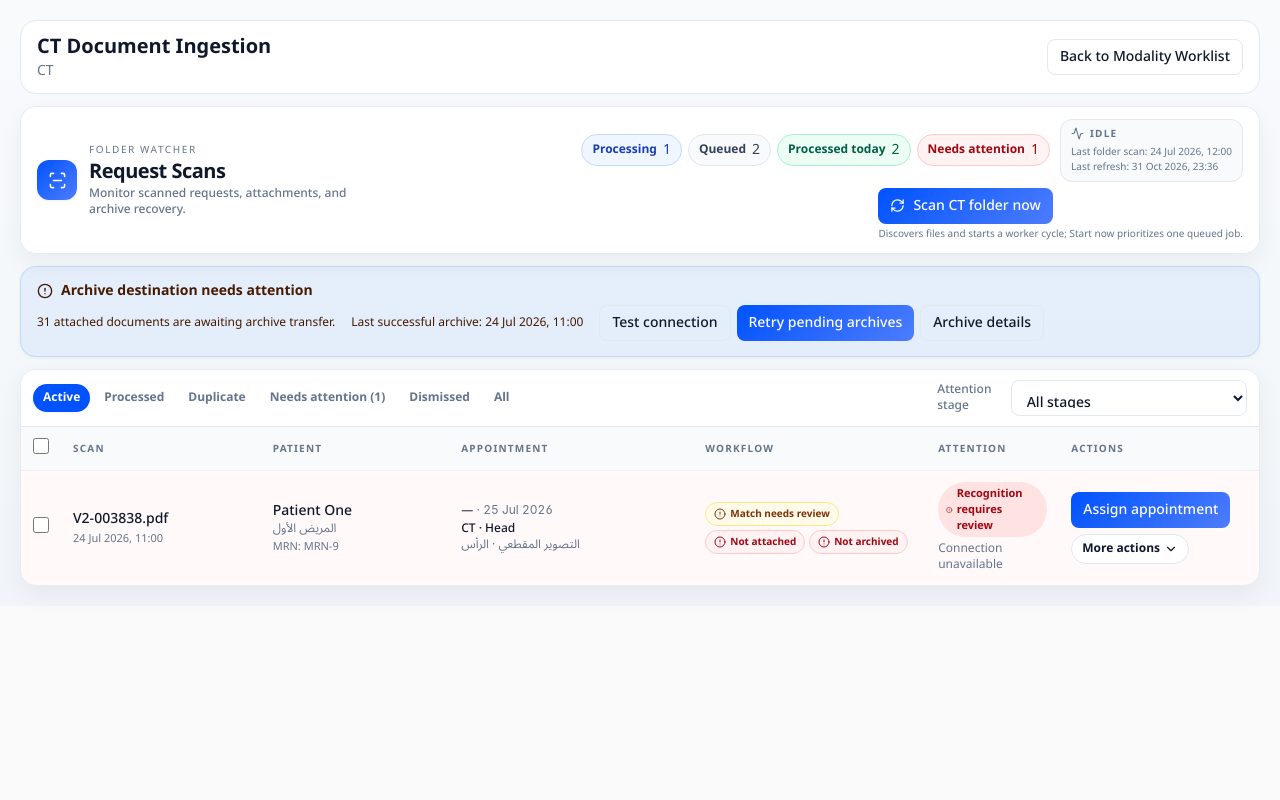
it: RequestScansPage › matches the selected numeric modality ID, opens confirmation, and keeps another modality disabled
Click the button "Assign appointment" at coordinates (1151, 510), box [1071,492,1230,528]
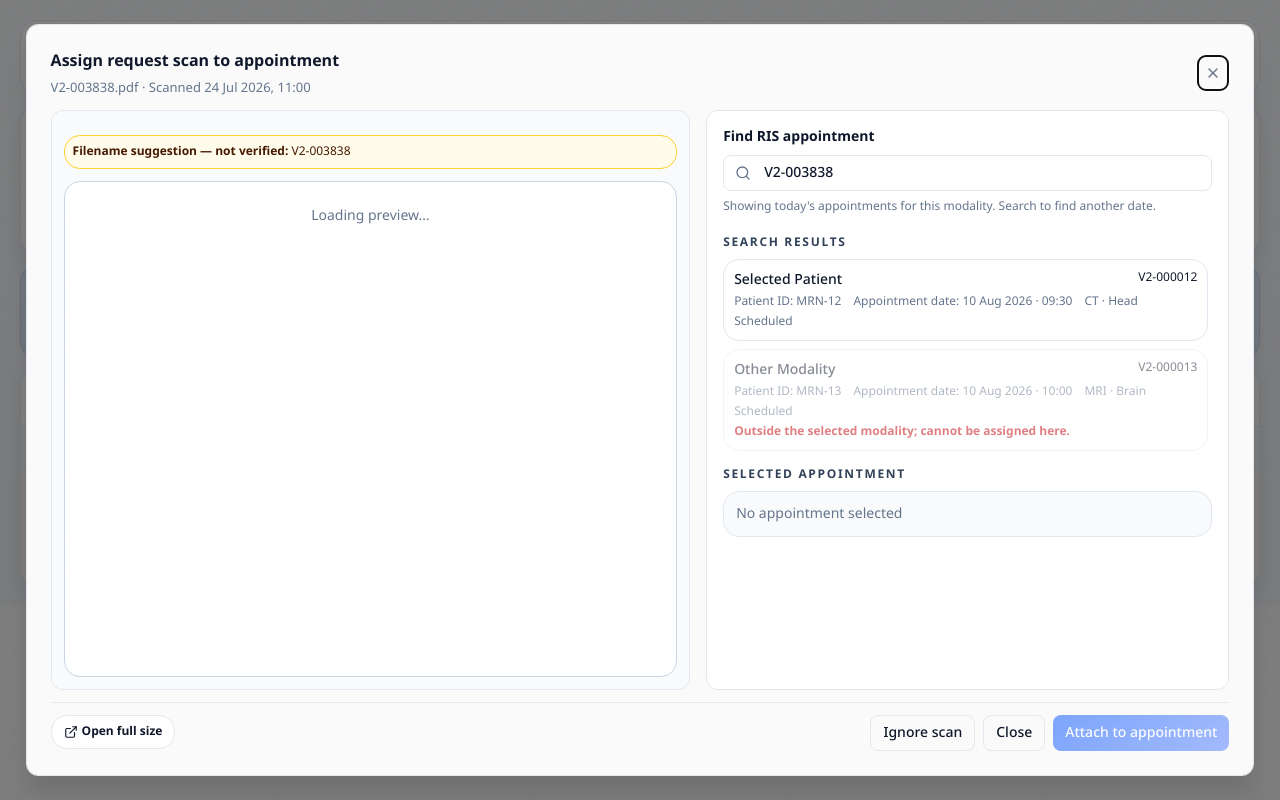
Now the list item "V2-000012" is enabled
Now the text "Outside the selected modality; cannot be assigned here." is shown, box [734,419,1070,444]
Now the list item "V2-000013" is disabled, box [723,349,1208,451]
Click the list item "V2-000012" at coordinates (966, 300), box [723,259,1208,341]
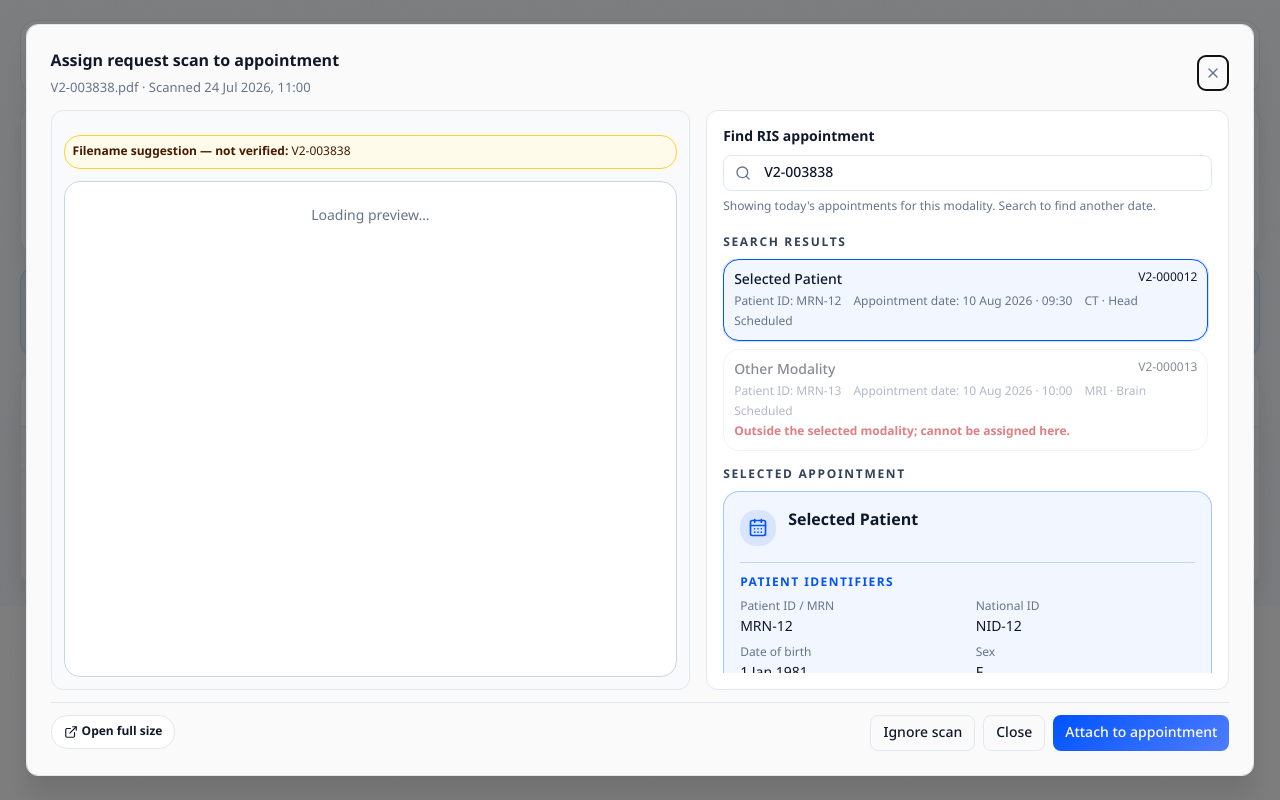
Now the element "Selected appointment" shows "Selected Patient", box [788,503,918,537]
Now the element "Selected appointment" shows "MRN-12", box [740,612,793,641]
Now the element "Selected appointment" shows "NID-12", box [976,612,1022,641]
Click the button "Attach to appointment" at coordinates (1141, 733), box [1053,714,1229,751]
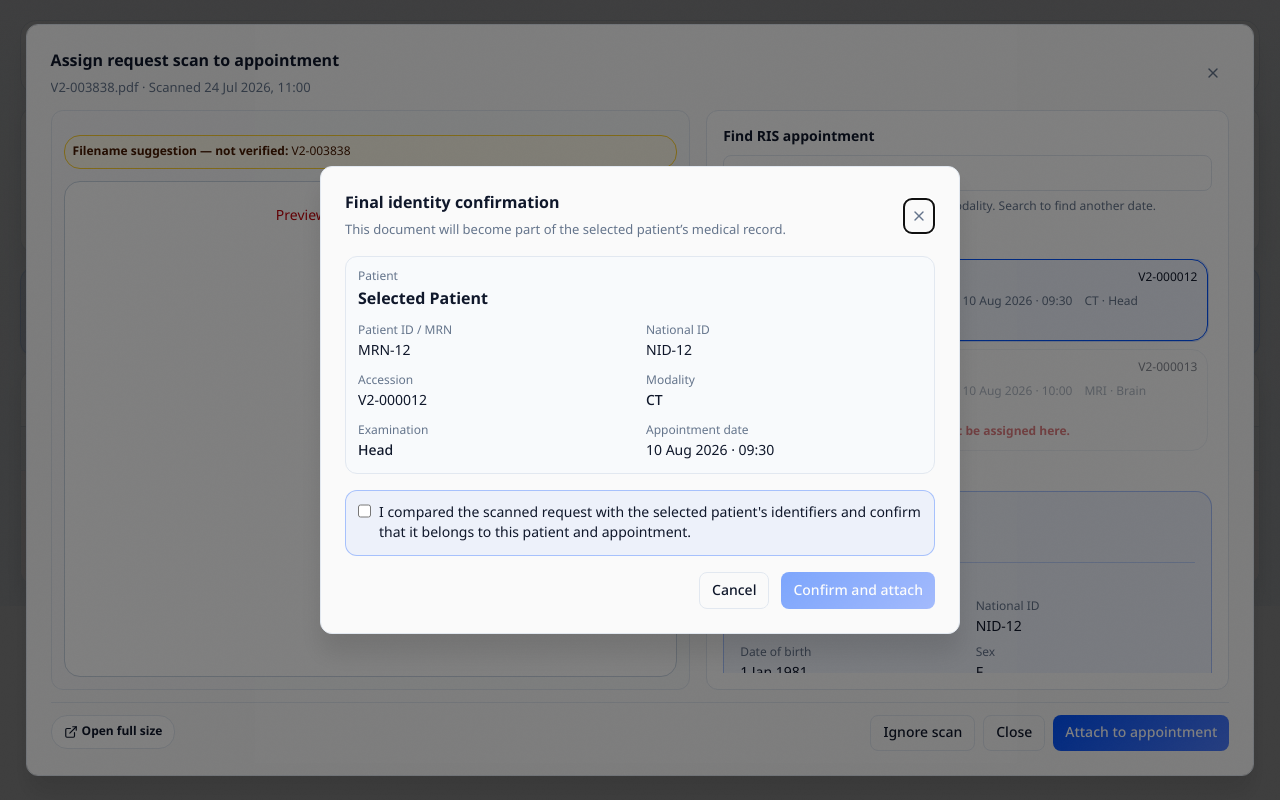
Now the heading "Final identity confirmation" is shown, box [345,186,560,220]
Now the text "This document will become part of the selected patient’s medical record." is shown, box [345,216,786,244]
Now the checkbox labelled "I compared the scanned request" is shown, box [358,503,371,519]
